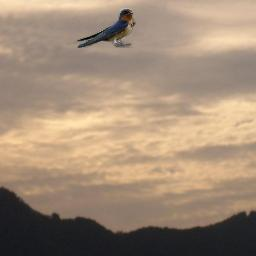Swallow: (66, 8, 136, 48)
